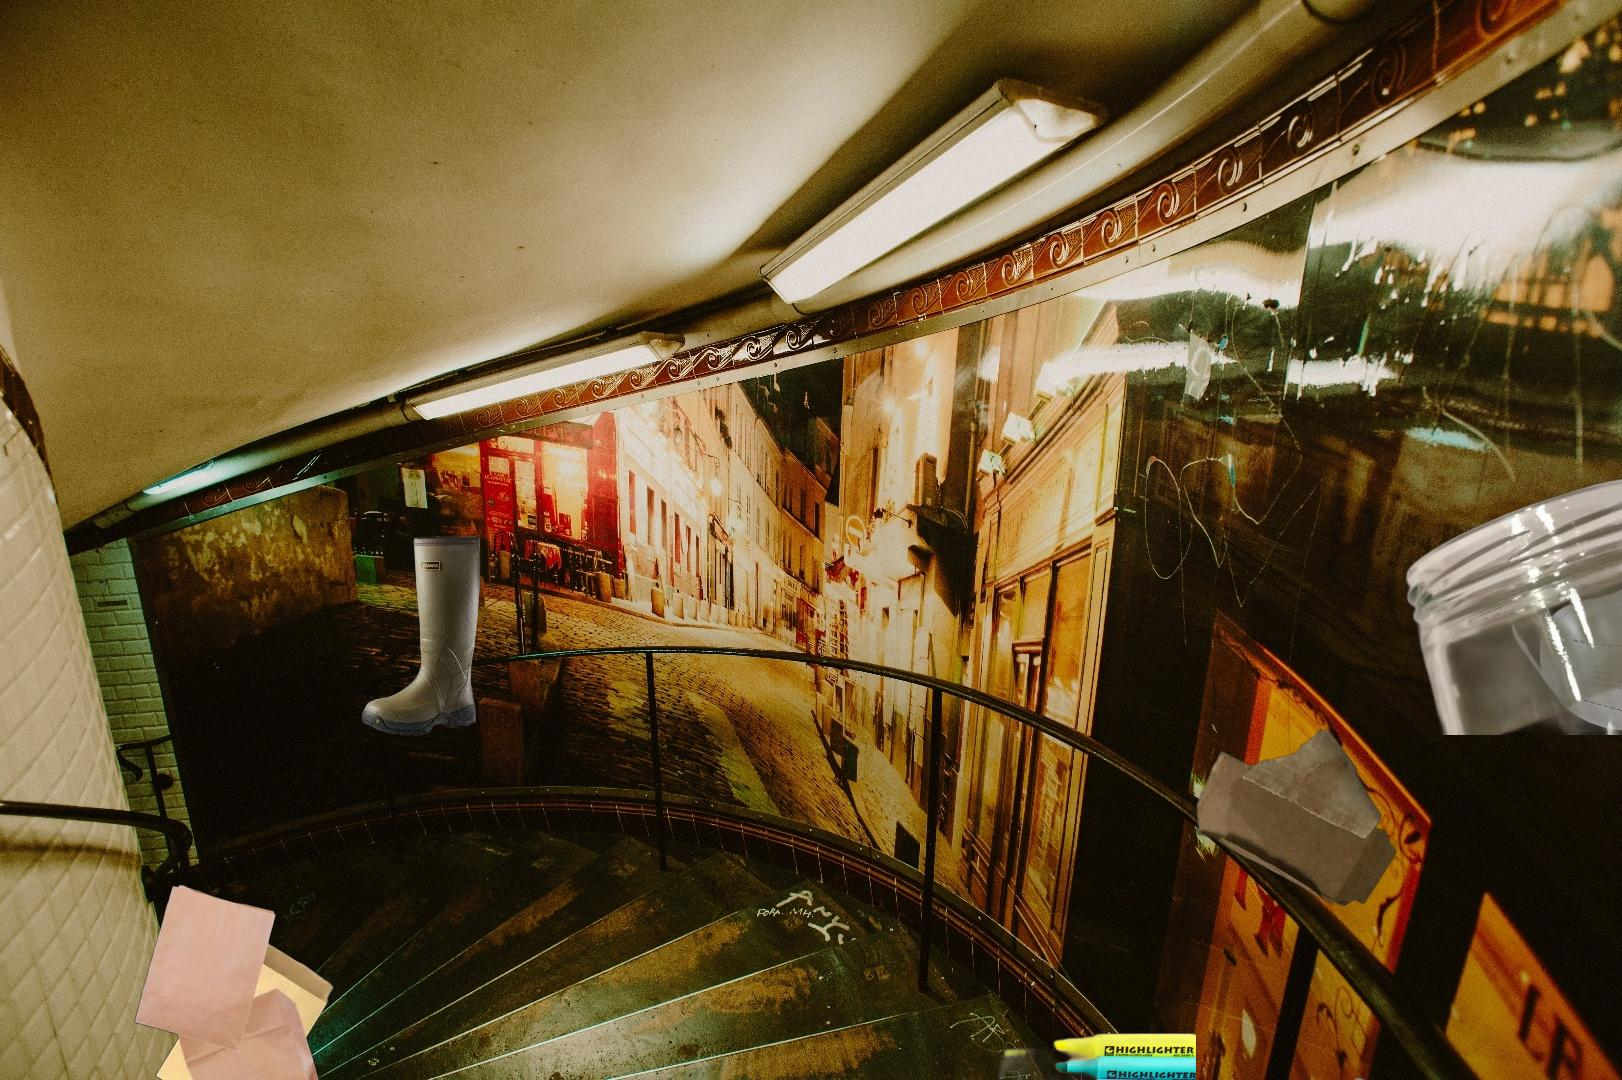glass: (1400, 474, 1622, 735)
paper: (1192, 724, 1401, 909), (1328, 1075, 1622, 1080)
paper-bag: (131, 881, 337, 1080)
penholder: (976, 1025, 1195, 1080)
shoes: (359, 536, 483, 736)
trash: (1508, 568, 1622, 733)
trashbox-cardboard: (1602, 794, 1622, 1035)
